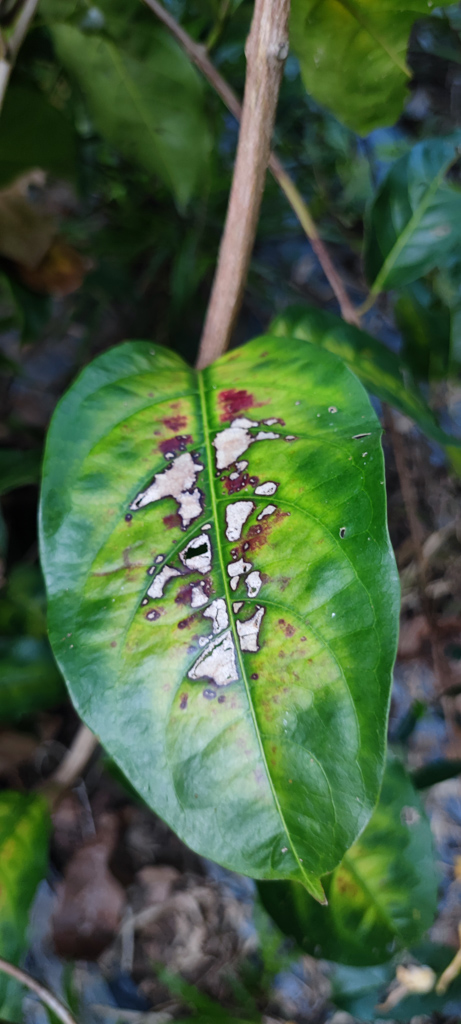Canker: (58, 319, 379, 843)
